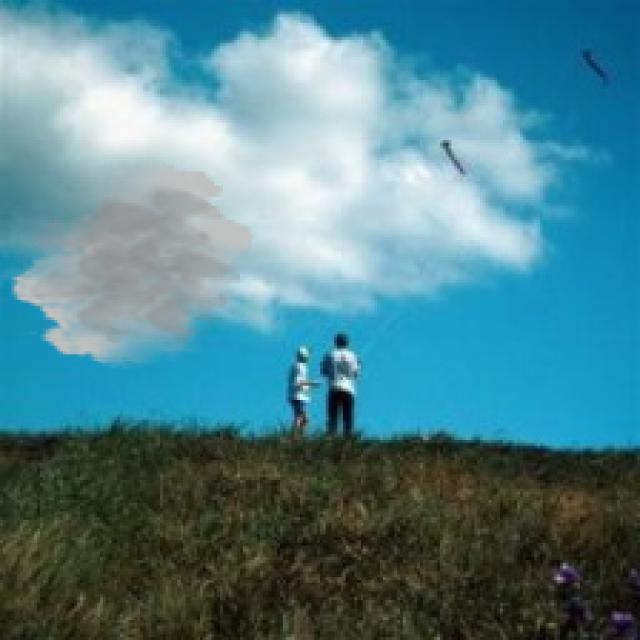Smoke: (9, 157, 258, 369)
